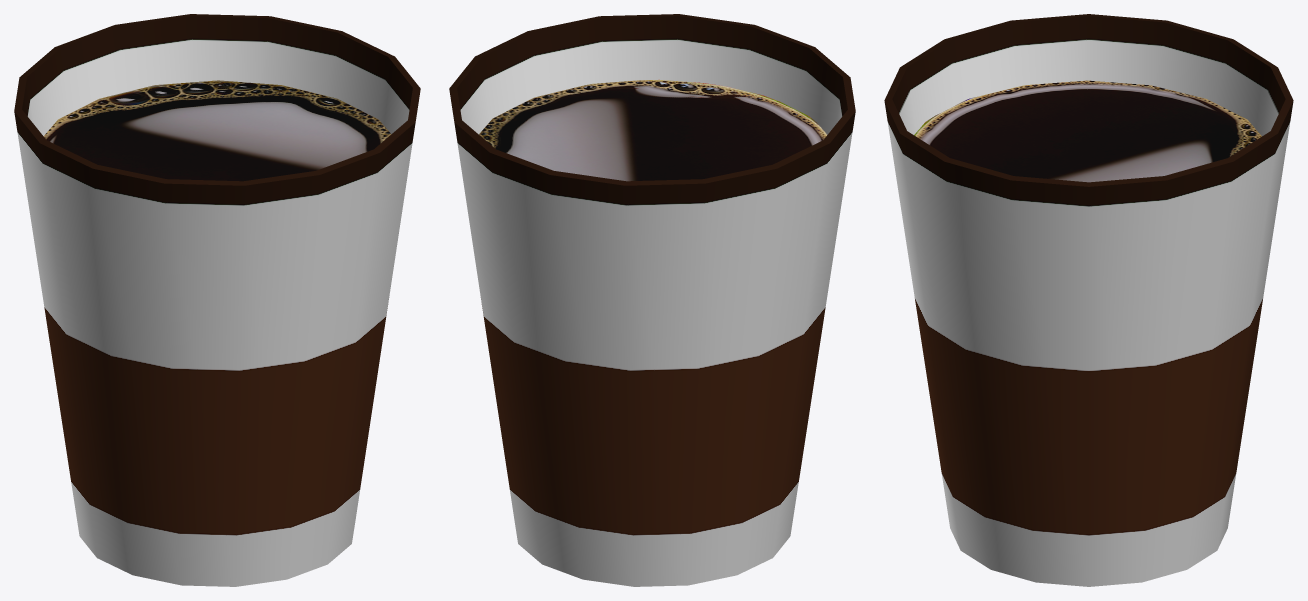
The model's file is paper cup.FBX.
The picture shows the model from 3 angles, left to right: view 1: azimuth 30°, elevation 25°; view 2: azimuth 150°, elevation 25°; view 3: azimuth 270°, elevation 25°; orthographic projection.
Visible parts, largest first — view 1: paper cup; view 2: paper cup; view 3: paper cup.
Part boxes in pixels (box(x1,y1,x2,y2)): paper cup: box(14, 14, 420, 586); paper cup: box(449, 14, 855, 586); paper cup: box(884, 14, 1293, 586).
Bounding box in the file's own units: 9.12 × 10.61 × 9.12.
Materials: 1 (1 with a texture image).
